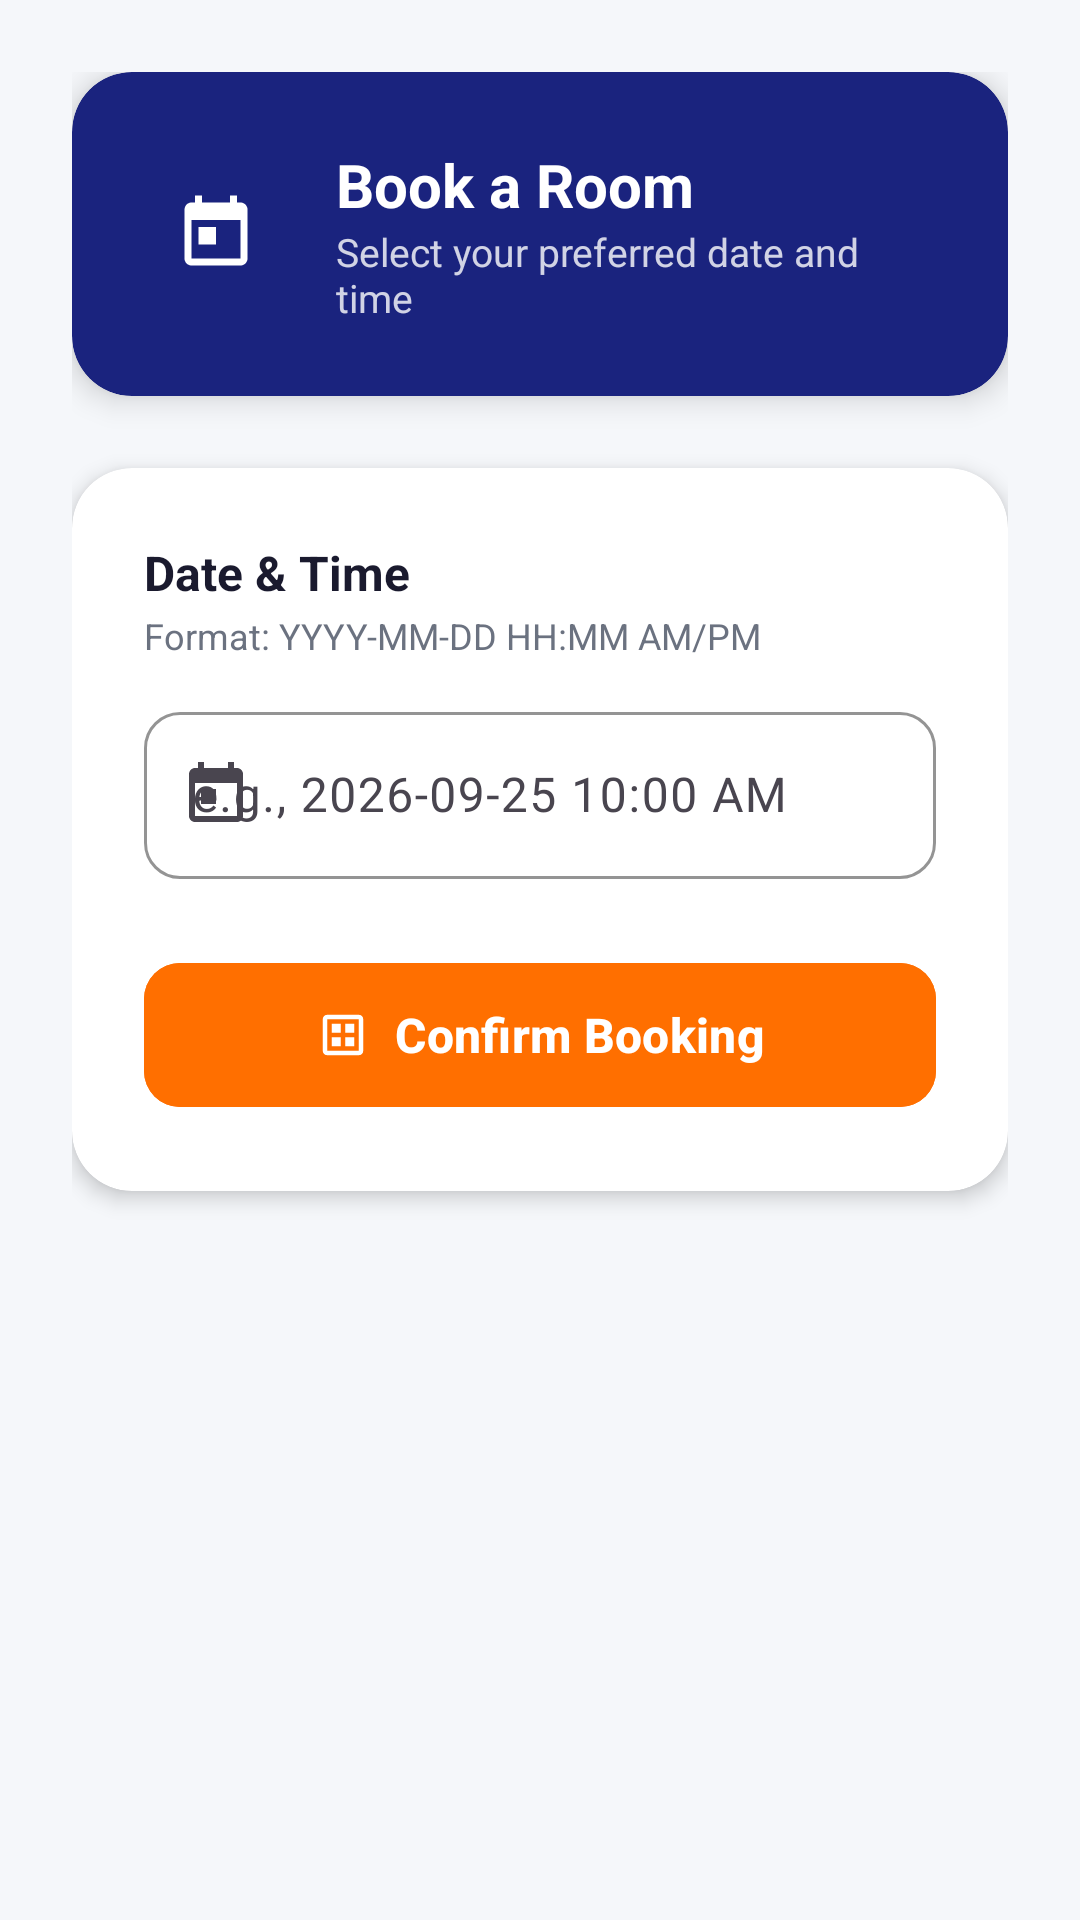

Named icons in this screenshot (1080 × 1920) and their bounding boxes, (x1, y1, x2, y2):
calendar: (184, 195, 248, 266)
